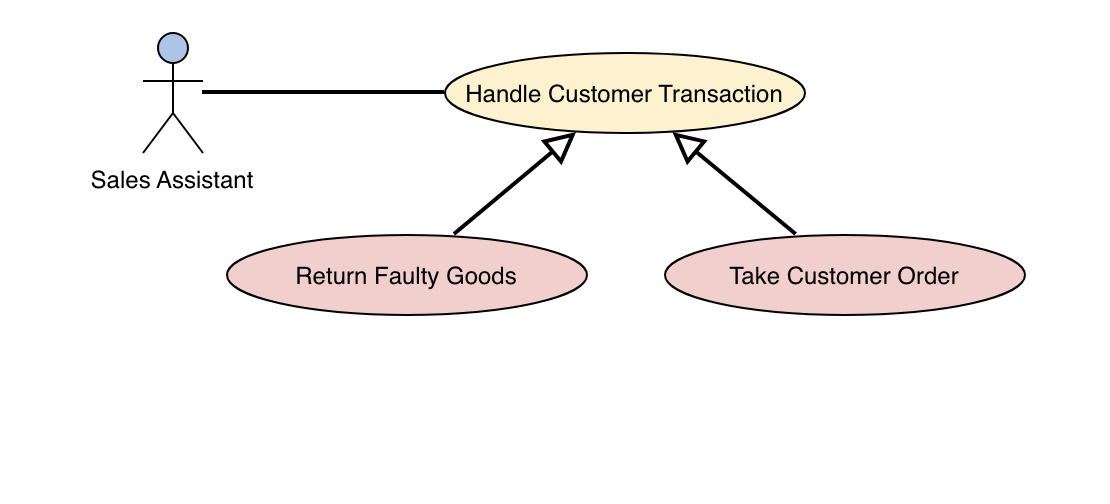actor: (138, 27, 207, 161)
association: (448, 131, 579, 236), (671, 131, 799, 236), (201, 72, 443, 105)
text: (728, 254, 971, 292), (460, 81, 786, 108), (289, 257, 522, 293), (80, 163, 256, 198)
use_case: (443, 50, 806, 137), (663, 232, 1026, 319), (225, 233, 589, 318)
